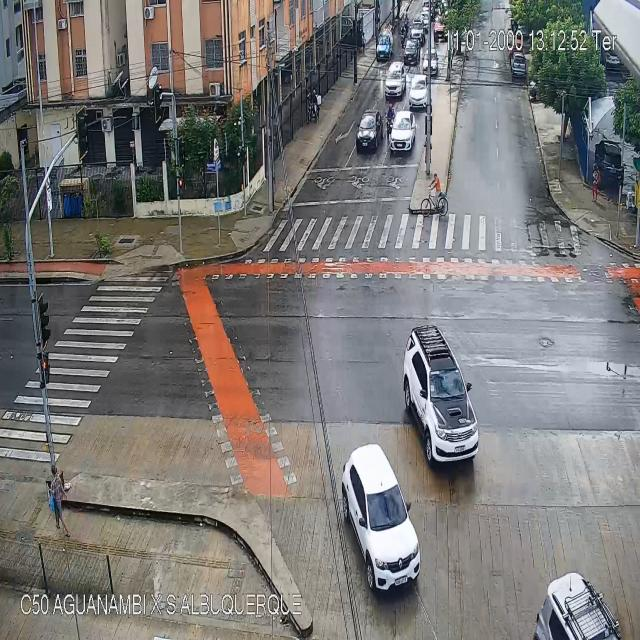Car: (342, 444, 421, 590), (404, 326, 478, 462), (534, 574, 620, 640), (355, 111, 384, 151), (389, 112, 416, 151), (384, 59, 406, 99), (408, 74, 430, 106), (376, 29, 394, 61), (423, 48, 438, 76), (403, 39, 418, 64), (511, 52, 525, 78), (410, 19, 424, 43), (434, 16, 445, 40)
Motorcycle: (306, 88, 322, 124), (386, 103, 394, 141), (403, 11, 409, 35), (400, 24, 405, 46)
